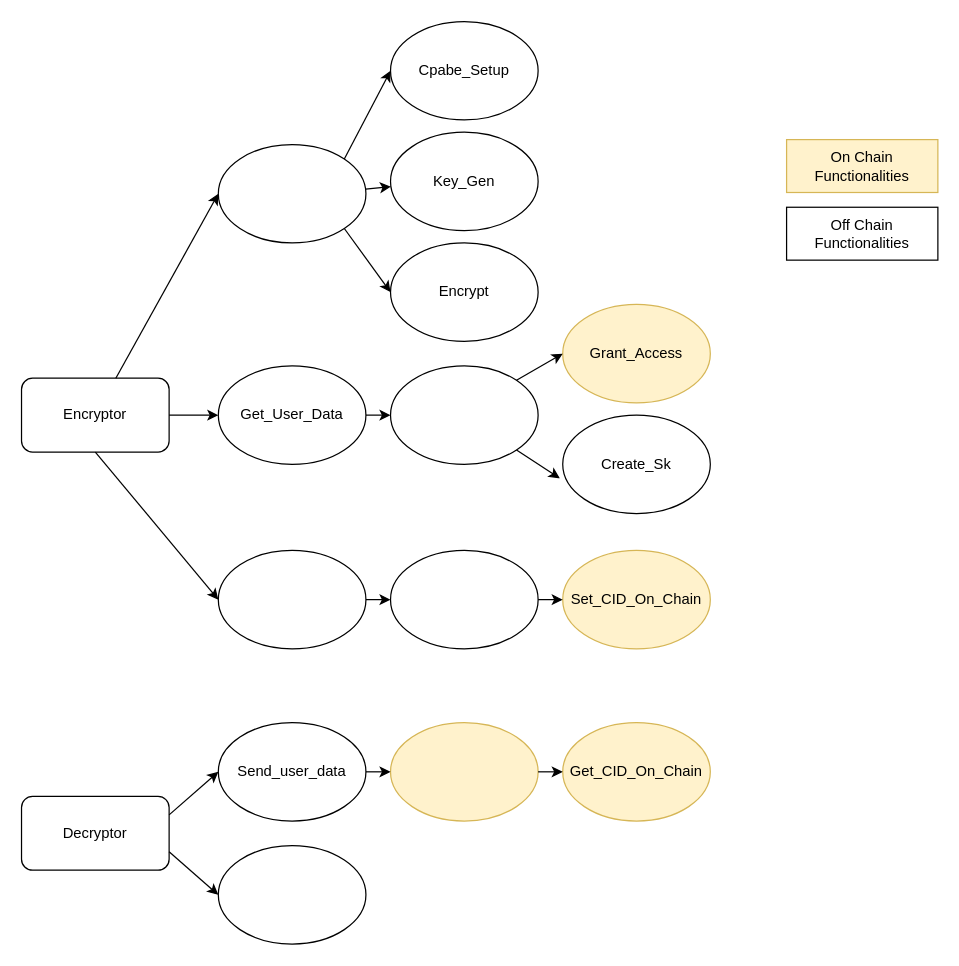
Some shapes in this 959 by 966 pixel diagram are drawn without their labels. The box of each missing label's shape, as (x1, y1, x2, y2) in pixels:
Check_Access: (389, 721, 538, 821)
Check_Policy: (389, 365, 538, 464)
Decrypt: (217, 844, 366, 944)
Encrypt_Data: (217, 143, 366, 243)
Get_CID_from_IPFS: (389, 549, 538, 649)
Upload_to_IPFS: (217, 549, 366, 649)
